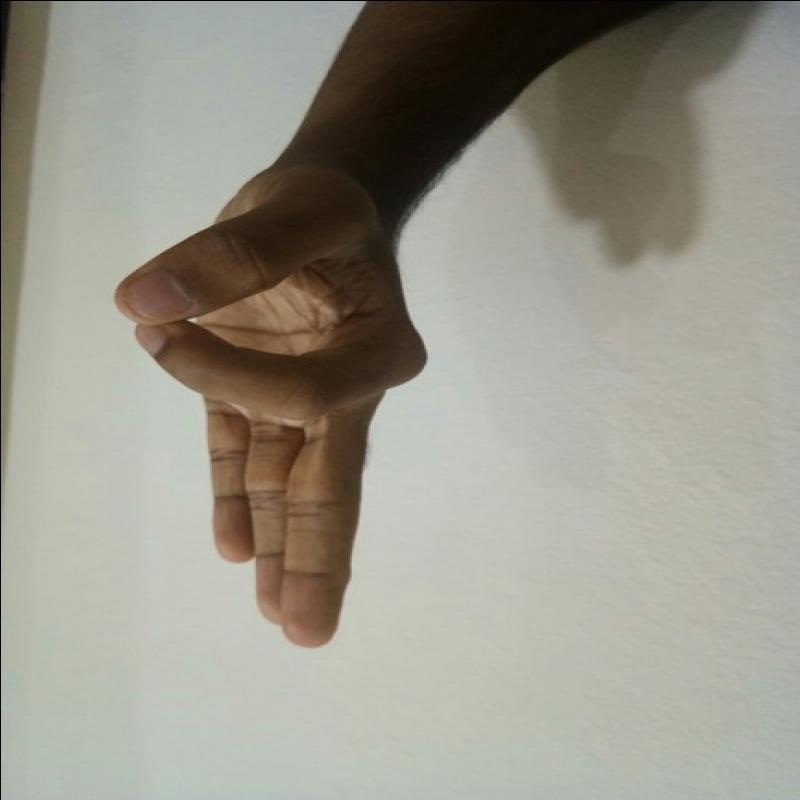Mudraakhyam: (98, 158, 437, 674)
